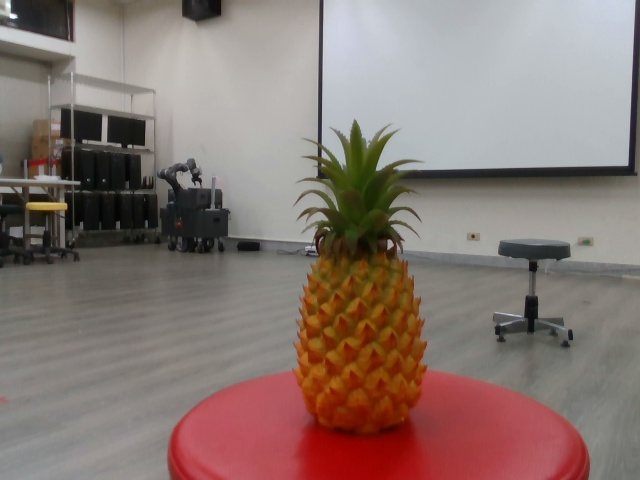pineapple: (297, 119, 428, 434)
